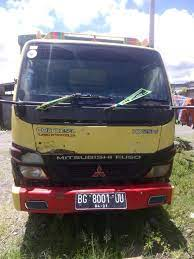plate: (76, 192, 126, 209)
